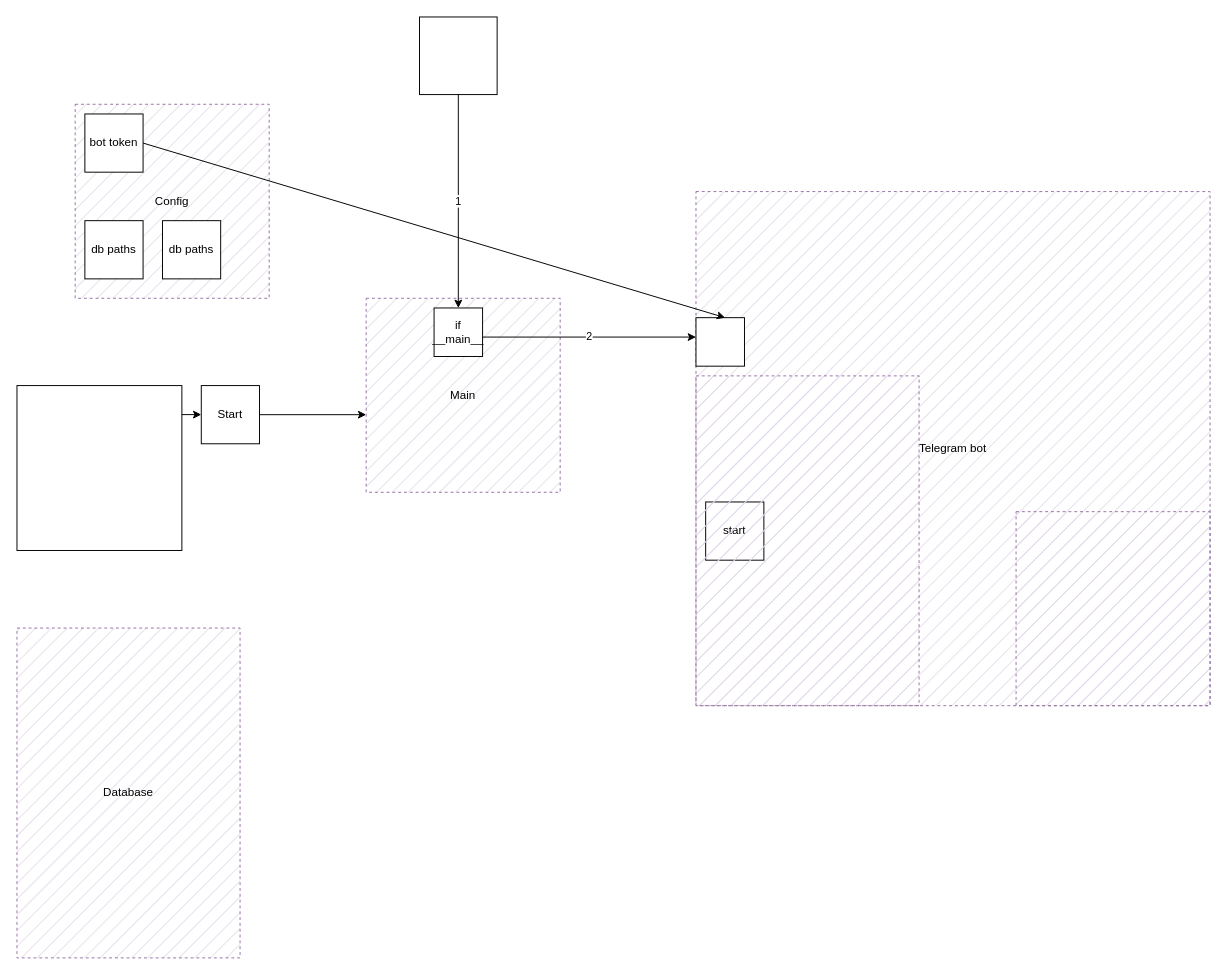
Some shapes in this 1227 by 975 pixel diagram are drawn without their labels. The shapes that lost their labels are listed below. From the top down, each one's centre as x and y in pixels, then its label:
At pixel 458 55: "LOCALSEREVE".
At pixel 719 341: "Start bot".
At pixel 99 467: "USER INPUT".
At pixel 807 540: "Handlers".
At pixel 1112 608: "keyboard".
